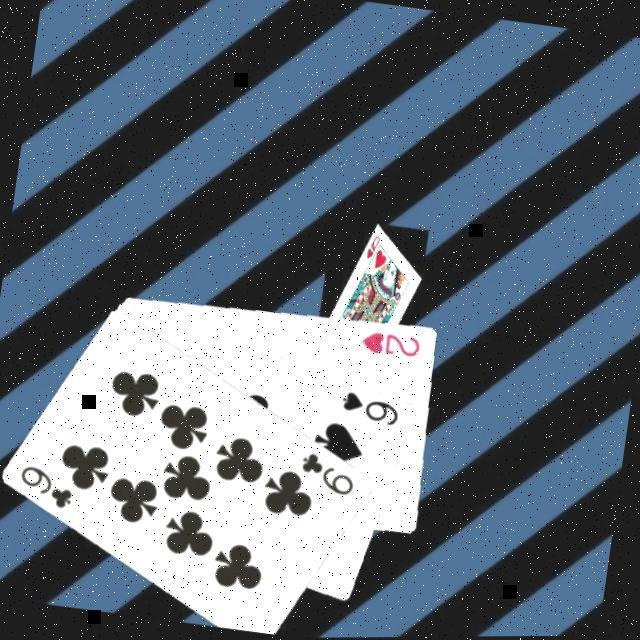2H: (360, 324, 428, 361)
6S: (338, 386, 406, 429)
9C: (15, 459, 83, 512), (296, 447, 364, 499)
